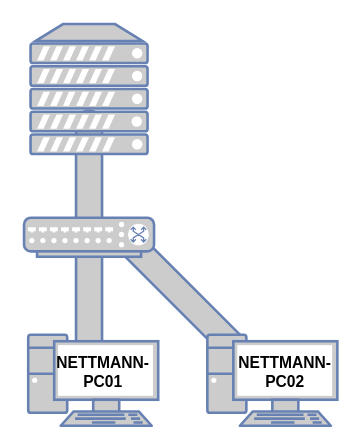
Image size: 360x448. Some labels were removed from this diagram. Here are the shapes that lost their labels. From the top down, the box of each, then its label:
(29, 22, 148, 155): NETTSERVER
(22, 216, 155, 257): Switch
